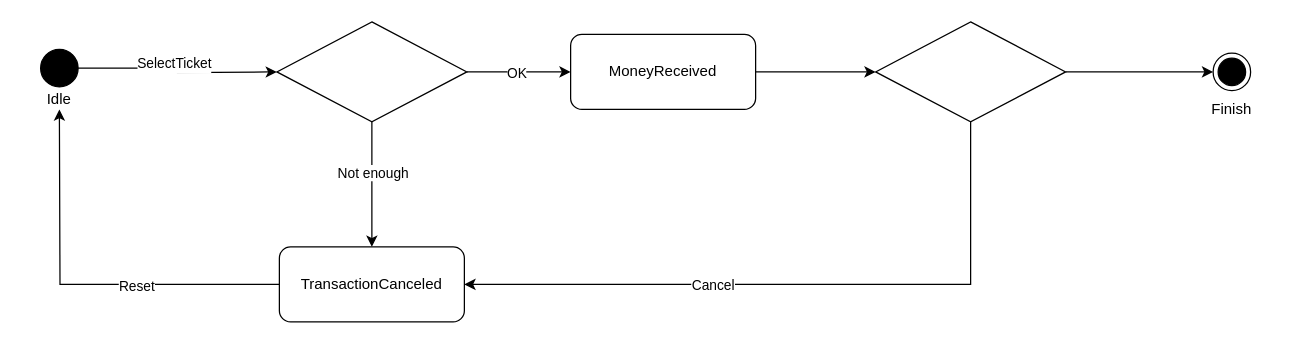
The diagram is 1290 pixels wide and 344 high, and some of its shapes have lost their labels. The centre of each missing label's shape, as x and y in pixels:
"DispenseTicket" goes at point 970,71.
"WaitingForMoney" goes at point 371,71.
